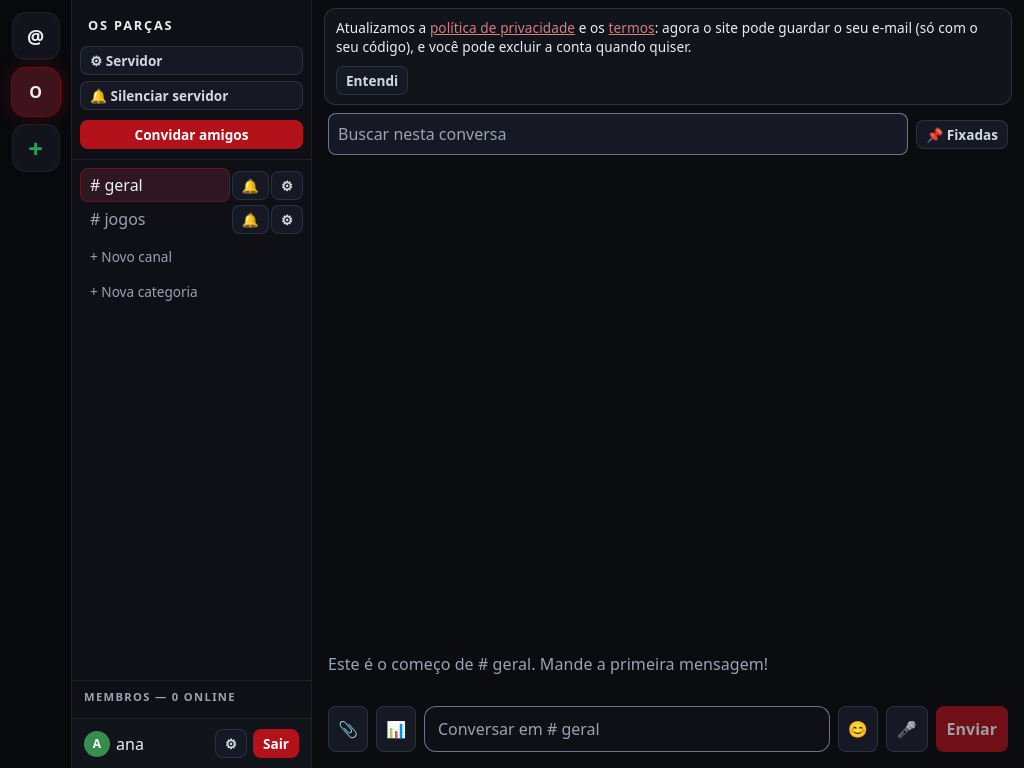
Scenario: canais › mostra o erro do servidor (nome repetido) e mantém o formulário aberto
Click the button "+ Novo canal" at x=192, y=256, box [80,242,303,271]
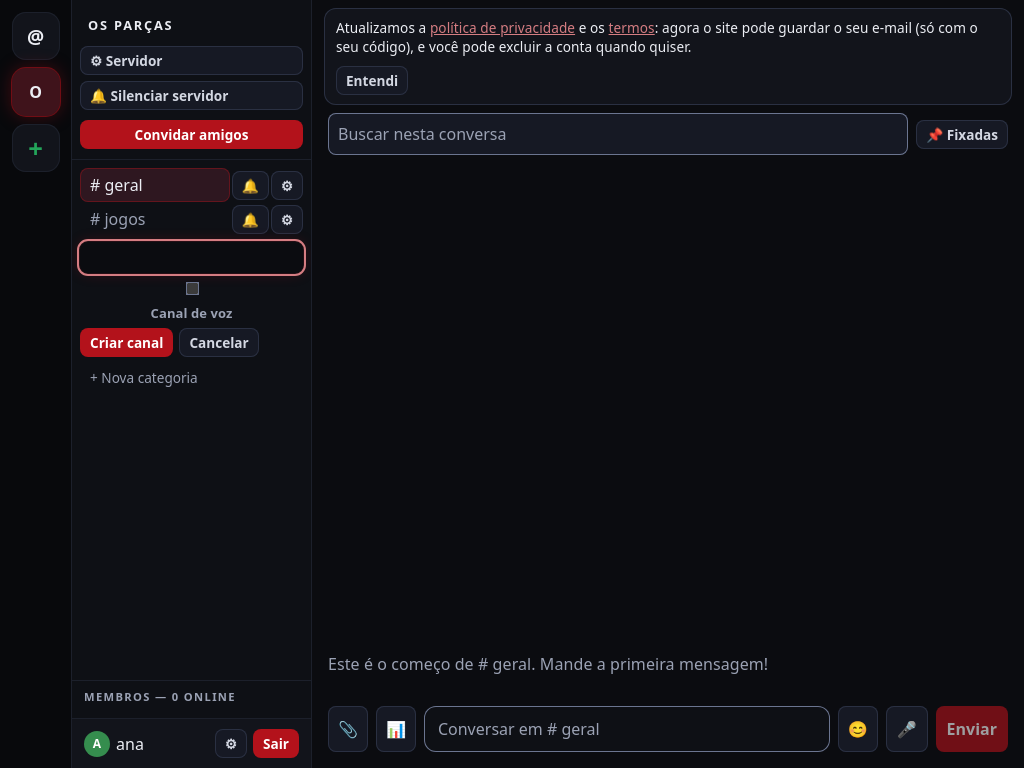
Type "jogos" into the field named "Nome do canal" at x=192, y=258, box [80,242,303,273]
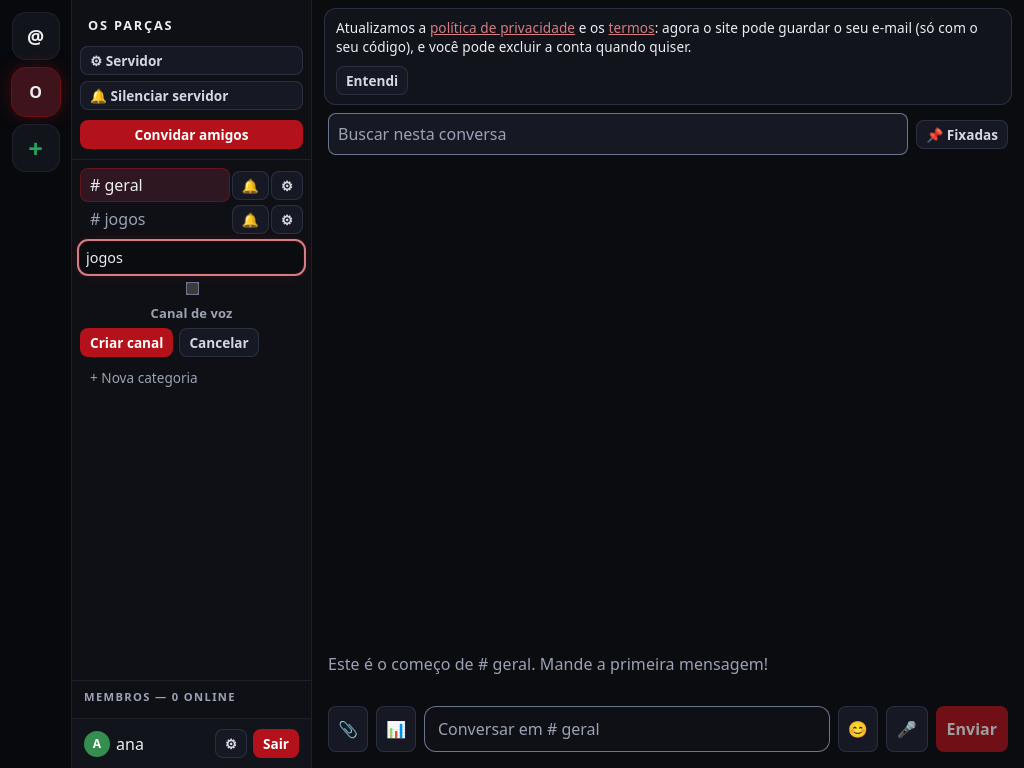
Click the button "Criar canal" at x=127, y=342, box [80,328,173,357]
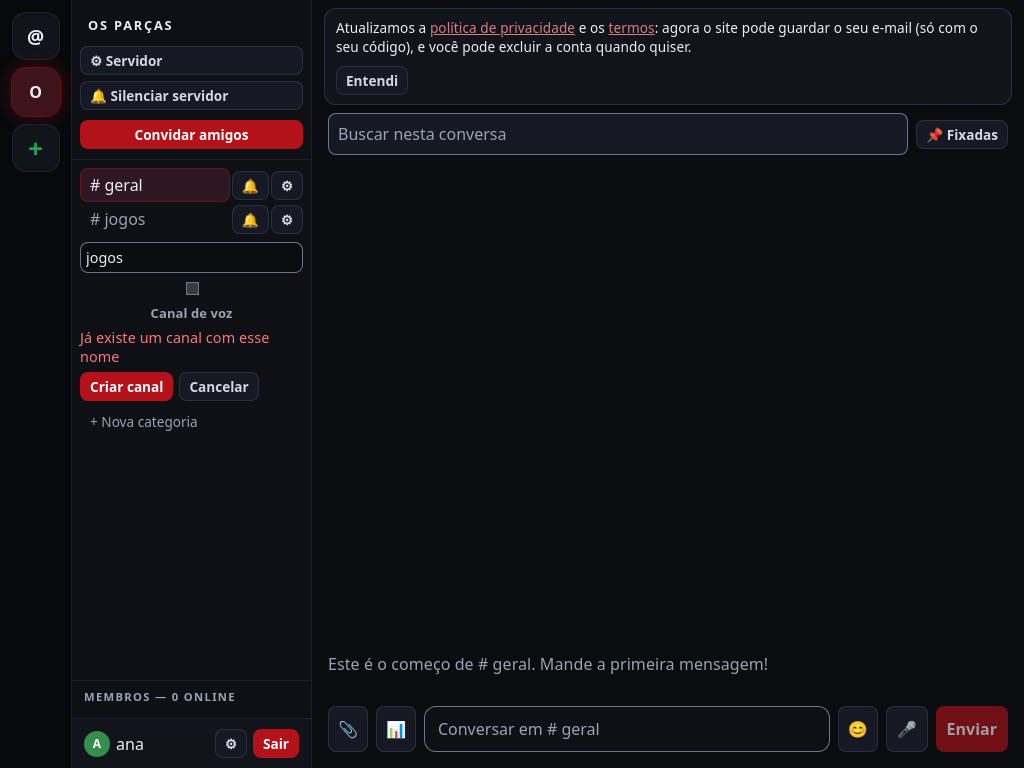
Now the message reads "Já existe um canal com esse nome", box [80,328,269,366]
